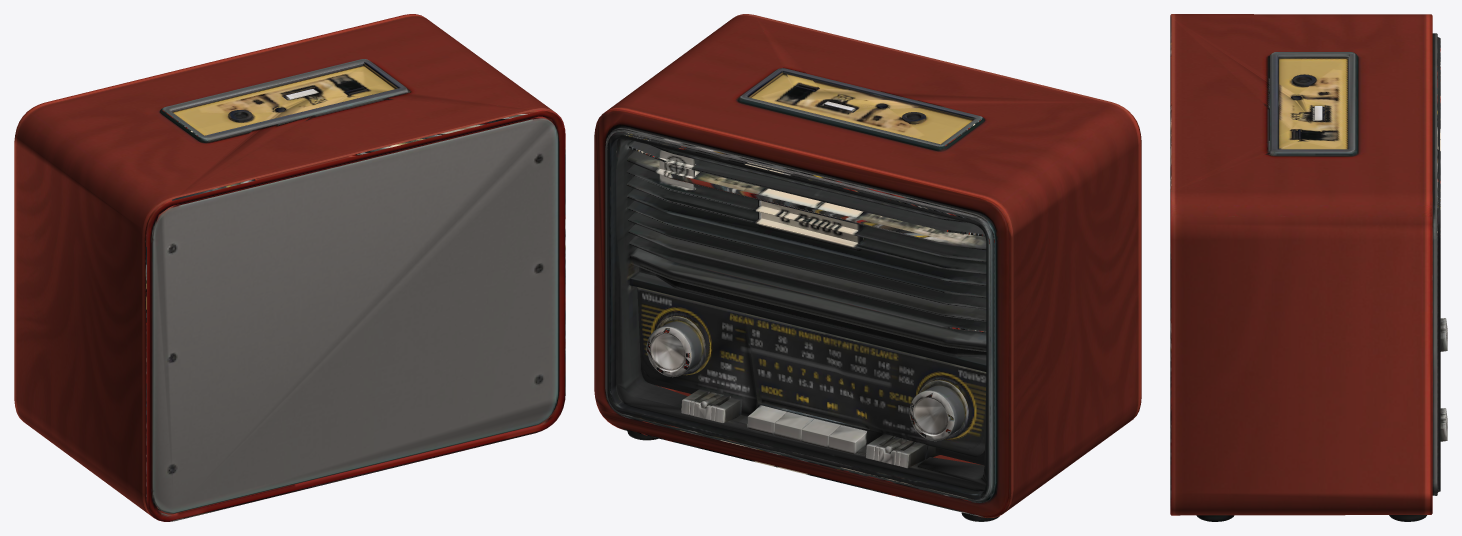
File: OparetionRoom_AI_Prop.001.fbx
3 views of the same model, side by side, from view 1: azimuth 30°, elevation 25°; view 2: azimuth 150°, elevation 25°; view 3: azimuth 270°, elevation 25° (orthographic).
Visible parts, largest first — view 1: OparetionRoom_AI_Prop.001; view 2: OparetionRoom_AI_Prop.001; view 3: OparetionRoom_AI_Prop.001.
Part boxes in pixels (<box>): OparetionRoom_AI_Prop.001: <box>14,14,565,521</box>; OparetionRoom_AI_Prop.001: <box>594,14,1141,521</box>; OparetionRoom_AI_Prop.001: <box>1170,14,1447,521</box>.
Bounding box in the file's own units: 39.92 × 30.27 × 23.03.
